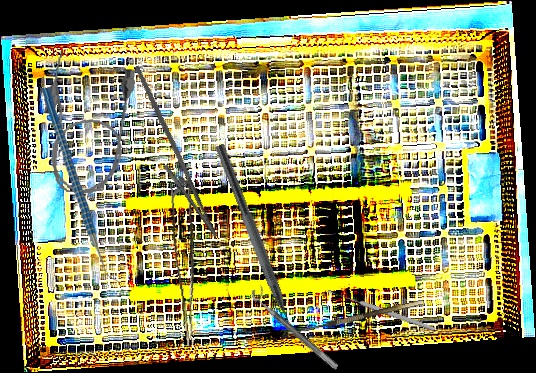Cannula: (33, 49, 138, 199)
Chopper: (201, 143, 302, 345), (38, 88, 125, 283)
Fixation Ring: (247, 283, 346, 371)
Hook Surgical: (281, 299, 426, 345)
Needle Holder: (102, 65, 238, 245)
Surgical Spoon: (327, 287, 436, 333)
Tissue Forceps: (164, 180, 213, 346)
